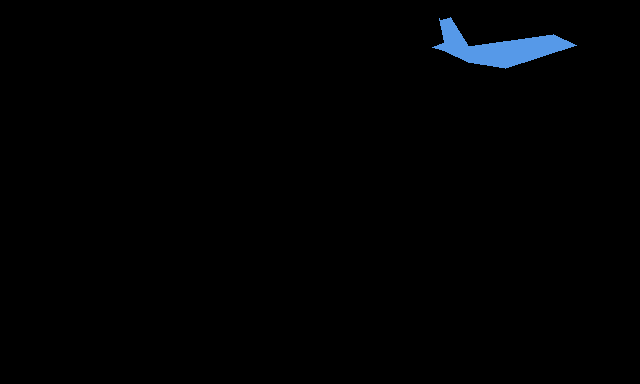Airplane: (432, 17, 577, 68)
